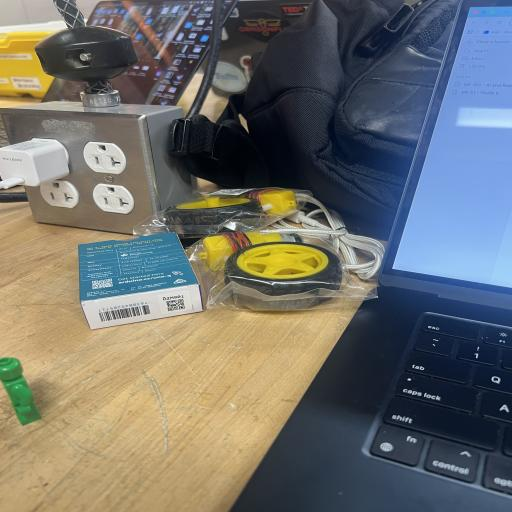green-lego-minifigure-detector: (0, 357, 41, 425)
